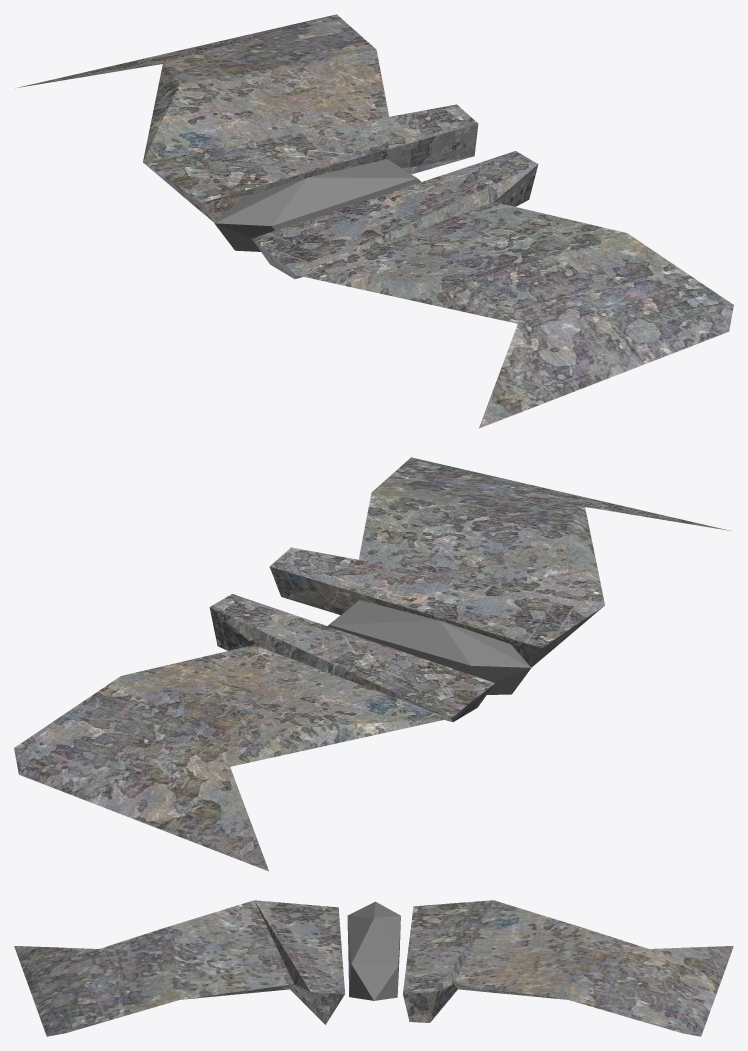
File: ship_low.obj
The picture shows the model from 3 angles, top to bottom: view 1: azimuth 30°, elevation 25°; view 2: azimuth 150°, elevation 25°; view 3: azimuth 270°, elevation 25°; orthographic projection. The views are drawn at different scales.
Visible parts, largest first — view 1: Mesh.002_Cube.002, Mesh_Cube.001; view 2: Mesh.002_Cube.002, Mesh_Cube.001; view 3: Mesh.002_Cube.002, Mesh_Cube.001.
Part boxes in pixels (x1,y1,x2,y2): Mesh.002_Cube.002: (15, 14, 733, 428); Mesh_Cube.001: (214, 159, 420, 251); Mesh.002_Cube.002: (14, 457, 732, 871); Mesh_Cube.001: (327, 600, 531, 694); Mesh.002_Cube.002: (14, 900, 733, 1036); Mesh_Cube.001: (347, 901, 400, 1000).
Size of the model in its own units: 5.17 by 1.02 by 13.
